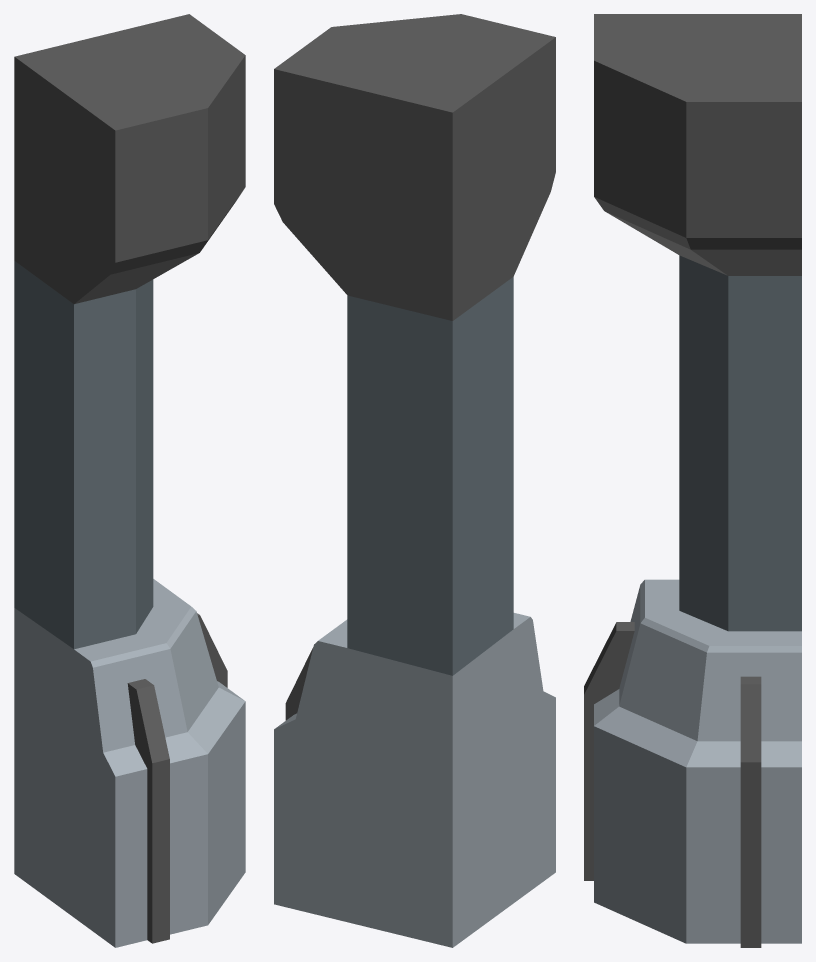
File: SM_Bld_Wall_Corner_Pillar_04.fbx
3 renders of one model, left to right at view 1: azimuth 30°, elevation 25°; view 2: azimuth 150°, elevation 25°; view 3: azimuth 270°, elevation 25°, orthographic. The views are drawn at different scales.
Parts seen in each view (by area): view 1: SM_Bld_Wall_Corner_Pillar_04; view 2: SM_Bld_Wall_Corner_Pillar_04; view 3: SM_Bld_Wall_Corner_Pillar_04.
Part boxes in pixels (box(x1,y1,x2,y2)): SM_Bld_Wall_Corner_Pillar_04: box(14, 14, 245, 947); SM_Bld_Wall_Corner_Pillar_04: box(274, 14, 555, 947); SM_Bld_Wall_Corner_Pillar_04: box(584, 14, 801, 947).
Size of the model in its own units: 119 by 509 by 119.
Materials: 1 (1 with a texture image).
